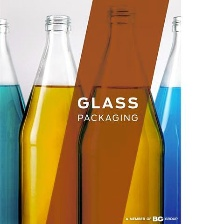bottle: (75, 3, 167, 224), (10, 11, 90, 223), (0, 14, 31, 224), (151, 12, 181, 224)
